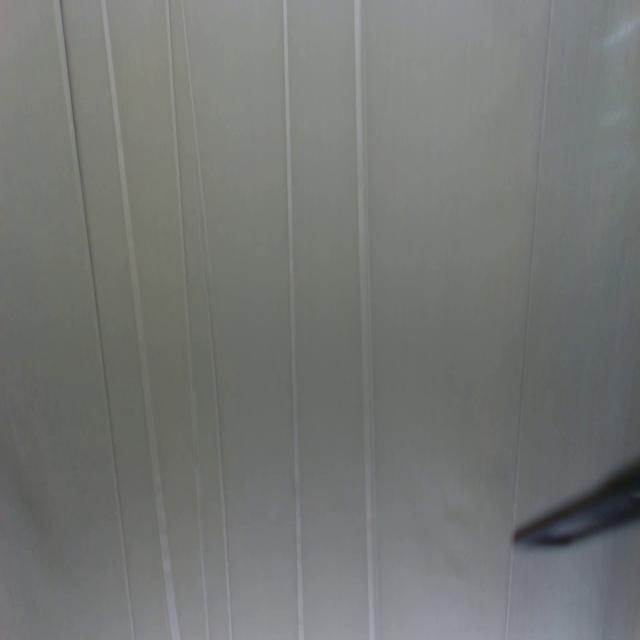crease: (102, 1, 181, 640), (58, 0, 135, 639), (180, 0, 233, 640), (167, 0, 211, 637), (513, 0, 551, 516), (354, 0, 376, 640), (282, 1, 304, 640), (503, 547, 515, 640)
